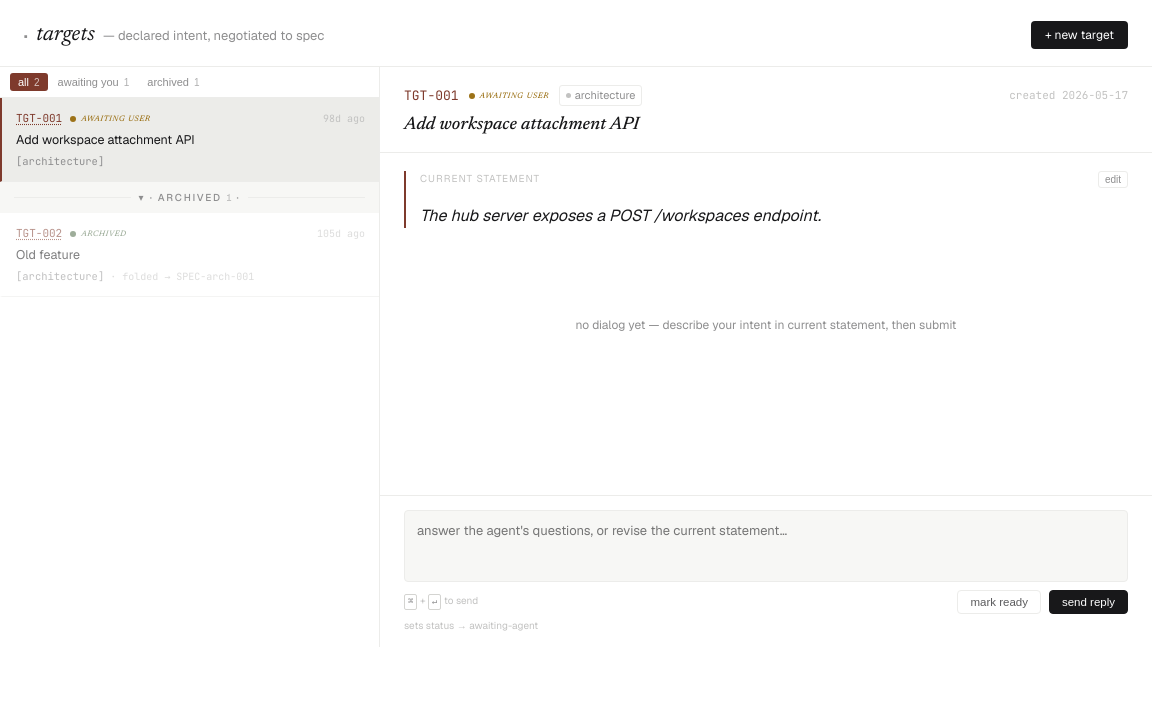
Test: Targets list uses ArtifactList for all filter tabs (WI-scr-023) › archived filter tab renders accepted rows without a divider
This screenshot has width=1152, height=720.
Step 1. Click the button "archived 1" → click(173, 82), box [139, 73, 207, 91]
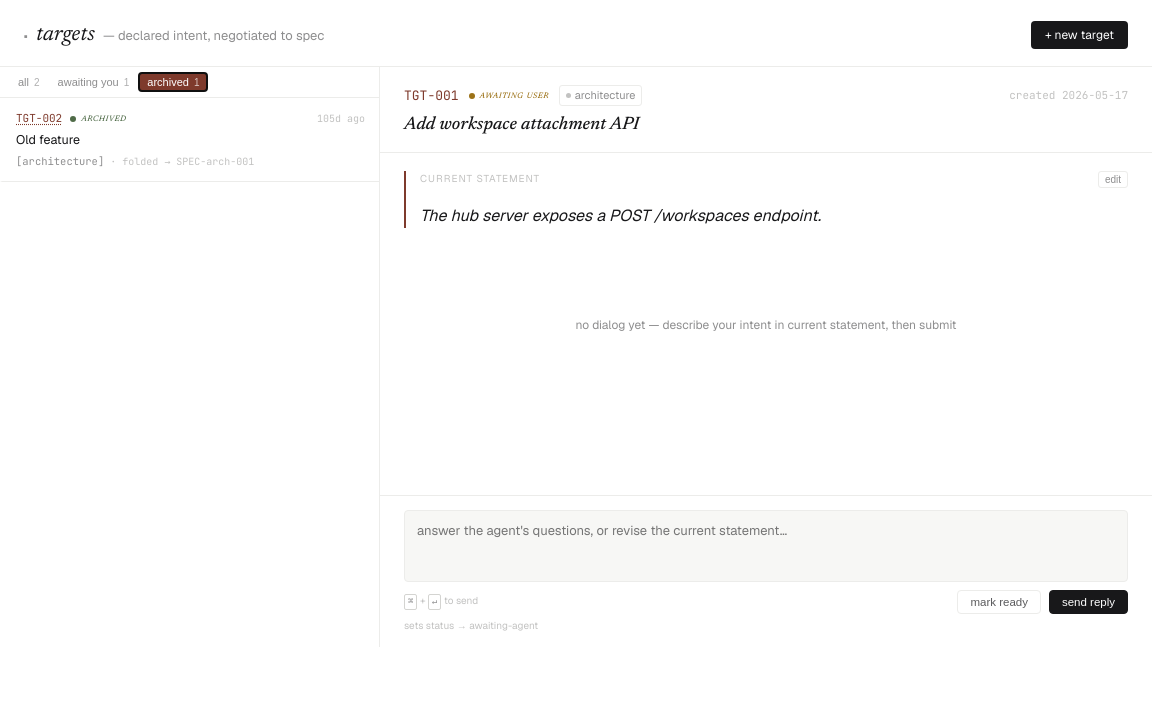
Check: the element with class "target-row" shows "Old feature", box [16, 131, 80, 148]
Check: the element with class "artifact-list-divider" is gone
Check: the number of elements with class "target-row" is 1, box [0, 98, 379, 182]
